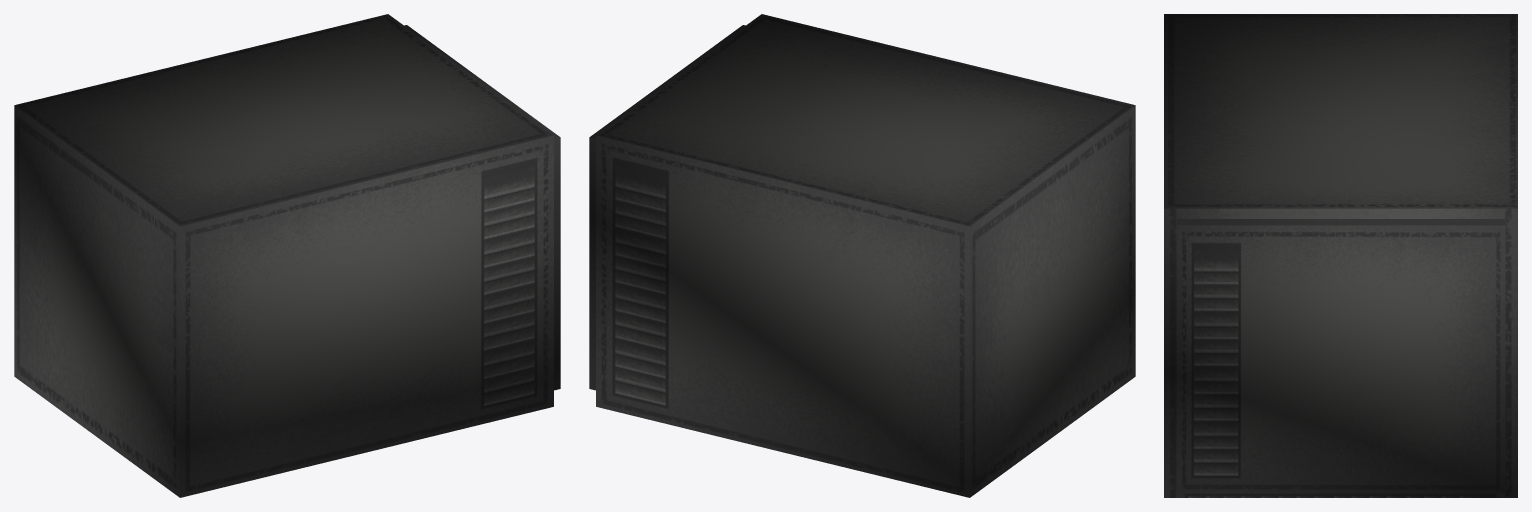
The model's file is PipeBox1.fbx.
3 views of the same model, side by side, from view 1: azimuth 30°, elevation 25°; view 2: azimuth 150°, elevation 25°; view 3: azimuth 270°, elevation 25° (orthographic). The views are drawn at different scales.
Visible parts, largest first — view 1: PipeBox1; view 2: PipeBox1; view 3: PipeBox1.
Boxes of the visible parts, bbox=[...] form: PipeBox1: bbox=[14, 14, 560, 497]; PipeBox1: bbox=[589, 14, 1135, 497]; PipeBox1: bbox=[1164, 14, 1517, 497].
Bounding box in the file's own units: 61.91 × 41.51 × 46.01.
